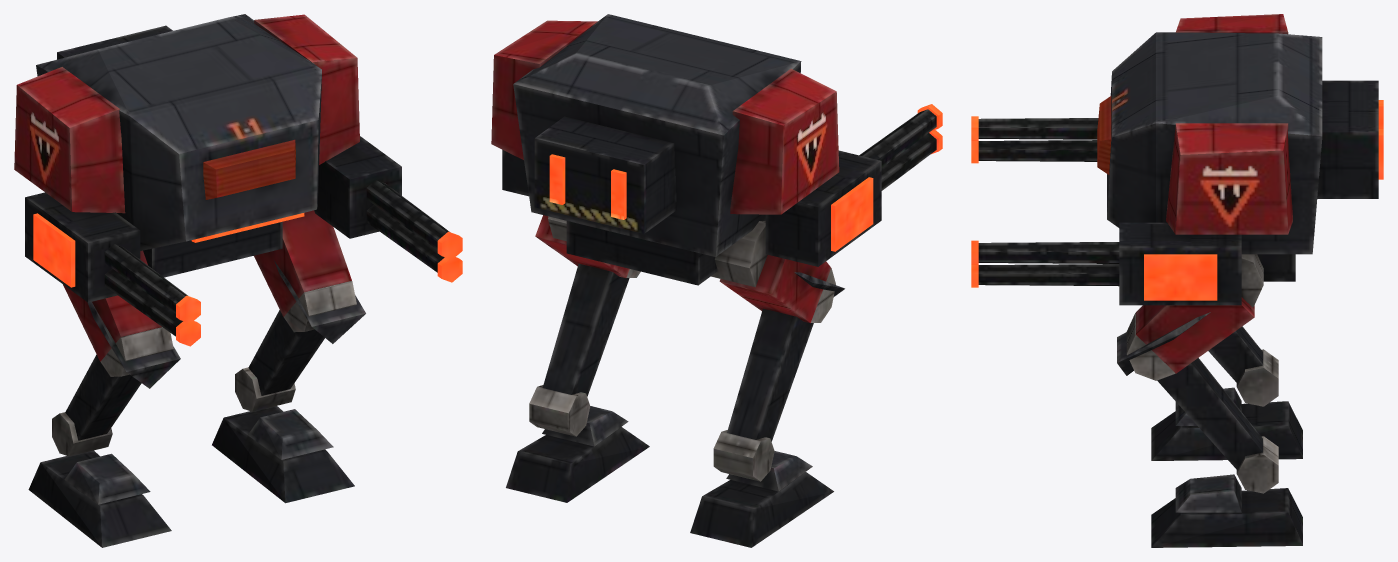
File: u_titan1_e.glb
The picture shows the model from 3 angles, left to right: view 1: azimuth 30°, elevation 25°; view 2: azimuth 150°, elevation 25°; view 3: azimuth 270°, elevation 25°; orthographic projection. The views are drawn at different scales.
Parts seen in each view (by area): view 1: u_titan1_e; view 2: u_titan1_e; view 3: u_titan1_e.
Boxes of the visible parts, x1=… form: u_titan1_e: x1=14, y1=14, x2=462, y2=547; u_titan1_e: x1=491, y1=14, x2=942, y2=547; u_titan1_e: x1=971, y1=14, x2=1383, y2=547.
Size of the model in its own units: 1.48 by 1.91 by 1.68.
1 material, 1 textured.
